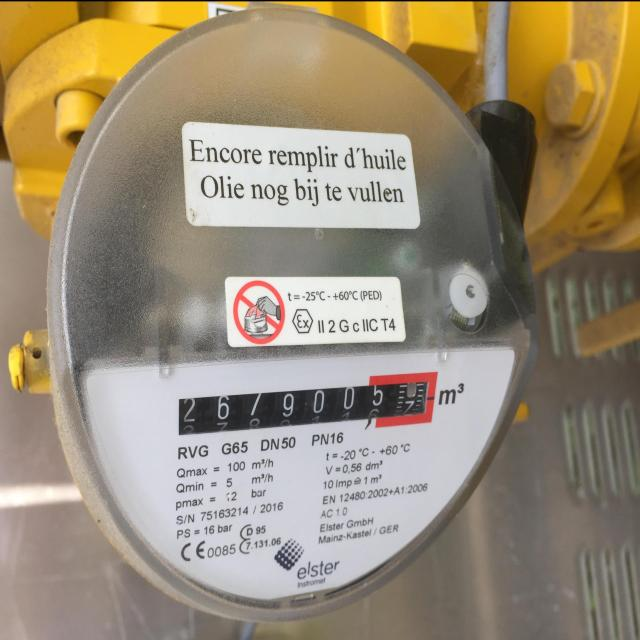gaz_meter: (49, 13, 536, 610)
indication: (175, 375, 433, 438)
